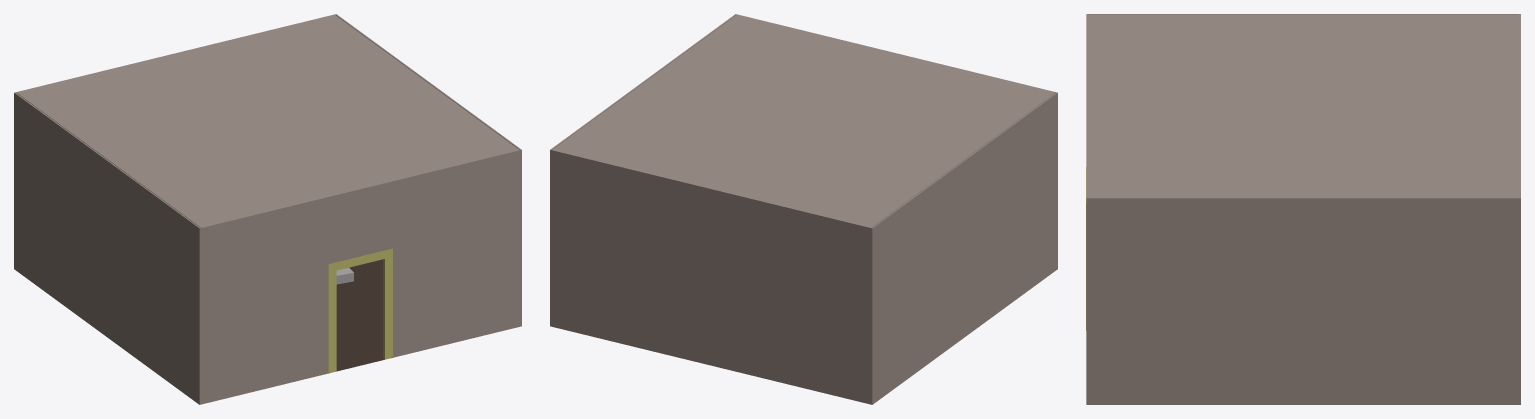
The model's file is Room26_Graveyard.fbx.
3 renders of one model, left to right at view 1: azimuth 30°, elevation 25°; view 2: azimuth 150°, elevation 25°; view 3: azimuth 270°, elevation 25°, orthographic. The views are drawn at different scales.
Parts seen in each view (by area): view 1: Roof, WallSlicedPosZ, WallPosX, WallSlicedPosZ28, WallPosX19, Floor, DoorFramePosZ, WallNegX; view 2: Roof, WallNegZ, WallPosX, WallNegZ3, WallPosX19, WallNegX; view 3: Roof, WallNegX, WallNegX19, WallPosX.
Boxes of the visible parts, left/top/right/bottom form: Roof: left=17, top=15, right=518, bottom=227; WallSlicedPosZ: left=200, top=149, right=521, bottom=364; WallPosX: left=14, top=92, right=200, bottom=364; WallSlicedPosZ28: left=200, top=286, right=521, bottom=404; WallPosX19: left=14, top=229, right=201, bottom=404; Floor: left=329, top=259, right=392, bottom=373; DoorFramePosZ: left=328, top=248, right=392, bottom=372; WallNegX: left=335, top=14, right=521, bottom=285; Roof: left=553, top=15, right=1054, bottom=227; WallNegZ: left=550, top=149, right=872, bottom=364; WallPosX: left=871, top=92, right=1057, bottom=364; WallNegZ3: left=550, top=286, right=871, bottom=404; WallPosX19: left=870, top=229, right=1057, bottom=404; WallNegX: left=550, top=14, right=736, bottom=285; Roof: left=1088, top=15, right=1518, bottom=197; WallNegX: left=1086, top=197, right=1520, bottom=357; WallNegX19: left=1086, top=357, right=1520, bottom=404; WallPosX: left=1086, top=14, right=1520, bottom=14.
Size of the model in its own units: 802 by 420 by 800.
